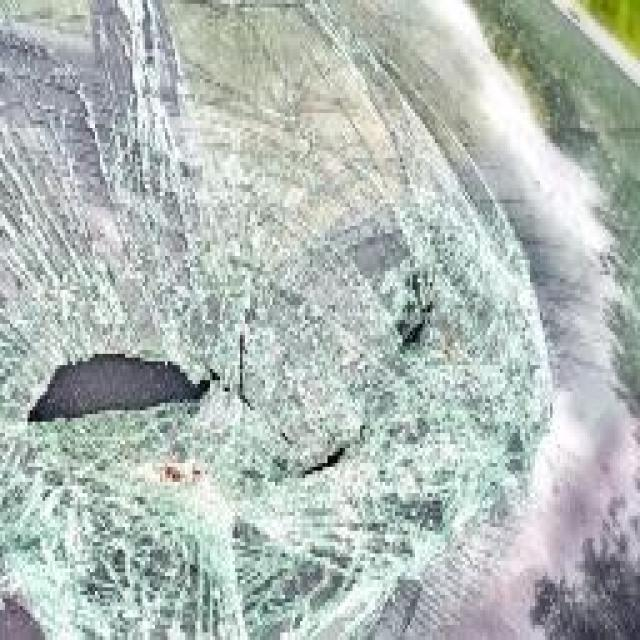Windshield: (5, 8, 565, 640)
